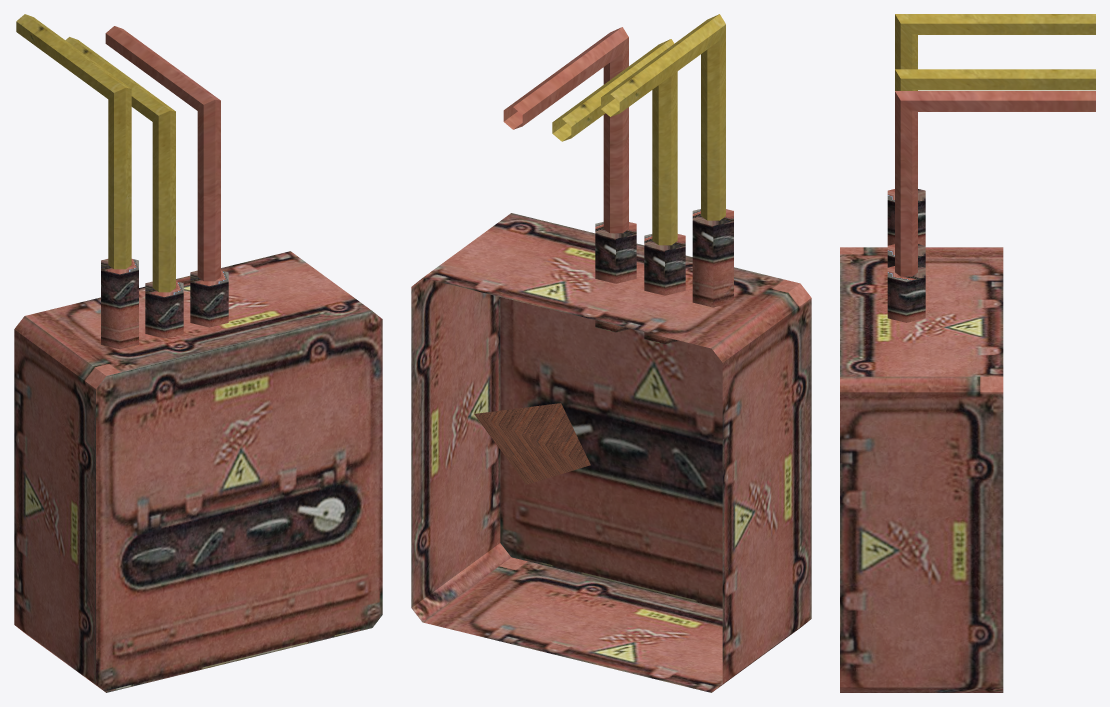
The model's file is Prop_ElecBox_03.FBX.
The picture shows the model from 3 angles, left to right: view 1: azimuth 30°, elevation 25°; view 2: azimuth 150°, elevation 25°; view 3: azimuth 270°, elevation 25°; orthographic projection. The views are drawn at different scales.
Visible parts, largest first — view 1: Prop_ElecBox_03; view 2: Prop_ElecBox_03; view 3: Prop_ElecBox_03.
Boxes of the visible parts, left/top/right/bottom form: Prop_ElecBox_03: left=14, top=14, right=382, bottom=692; Prop_ElecBox_03: left=411, top=14, right=811, bottom=692; Prop_ElecBox_03: left=840, top=14, right=1095, bottom=692.
Bounding box in the file's own units: 0.1231 × 0.2355 × 0.0954.
